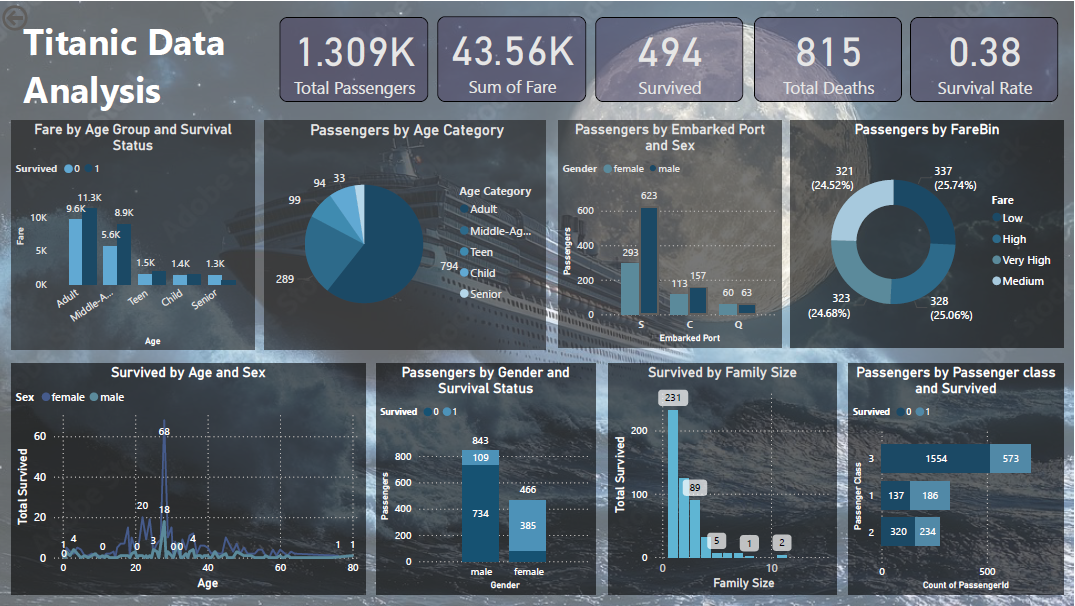

This screenshot's page, from the dashboard's own definition file:
{"tool":"powerbi","page":{"name":"Page 1","canvas":[1280,720],"ordinal":0},"visuals":[{"type":"cardVisual","title":"Total Passengers","fields":{"Data":["CountNonNull(titanic_cleaned.PassengerId)"]},"box":[329.6,14.5,188,111.3],"z":0},{"type":"textbox","box":[24.6,13,280.5,138.8],"z":1000},{"type":"cardVisual","fields":{"Data":["Sum(titanic_cleaned.Survived)"]},"box":[705.5,14.5,186.5,111.3],"z":2000},{"type":"cardVisual","fields":{"Data":["titanic_cleaned.Total Death"]},"box":[894.9,14.5,186.5,111.3],"z":3000},{"type":"cardVisual","fields":{"Data":["Sum(titanic_cleaned.Fare)"]},"box":[517.6,13,188,112.8],"z":4000},{"type":"cardVisual","fields":{"Data":["titanic_cleaned.Survival Rate"]},"box":[1081.4,14.5,186.5,111.3],"z":5000},{"type":"pieChart","title":"Passengers by Age Category","fields":{"Category":["titanic_cleaned.AgeBin"],"Y":["CountNonNull(titanic_cleaned.PassengerId)"]},"box":[316.6,141.7,335.4,273.3],"z":6000},{"type":"actionButton","box":[0,0,100,40],"z":7000},{"type":"columnChart","title":"Passengers by Gender and Survival Status","fields":{"Y":["CountNonNull(titanic_cleaned.PassengerId)"],"Category":["titanic_cleaned.Sex"],"Series":["titanic_cleaned.Survived"]},"box":[449.6,432.3,261.7,273.3],"z":9000},{"type":"lineChart","title":"Survived by Age and Sex","fields":{"Category":["titanic_cleaned.Age"],"Y":["Sum(titanic_cleaned.Survived)"],"Series":["titanic_cleaned.Sex"]},"box":[15.9,432.3,420.7,273.3],"z":10000},{"type":"lineStackedColumnComboChart","title":"Survived by Family Size","fields":{"Category":["titanic_cleaned.FamilySize"],"Y":["Sum(titanic_cleaned.Survived)"]},"box":[727.2,432.3,270.4,273.3],"z":11000},{"type":"barChart","title":"Passengers by Passenger class and Survived","fields":{"Category":["titanic_cleaned.Pclass"],"Y":["CountNonNull(titanic_cleaned.PassengerId)"],"Series":["titanic_cleaned.Survived"]},"box":[1013.5,432.3,254.5,273.3],"z":12000},{"type":"clusteredColumnChart","title":"Passengers by Embarked Port and Sex","fields":{"Category":["titanic_cleaned.Embarked"],"Series":["titanic_cleaned.Sex"],"Y":["CountNonNull(titanic_cleaned.PassengerId)"]},"box":[666.5,141.7,266,270.4],"z":13000},{"type":"clusteredColumnChart","title":"Fare by Age Group and Survival Status","fields":{"Category":["titanic_cleaned.AgeBin"],"Y":["Sum(titanic_cleaned.Fare)"],"Series":["titanic_cleaned.Survived"]},"box":[15.9,141.7,289.2,273.3],"z":14000},{"type":"donutChart","title":"Passengers by FareBin","fields":{"Category":["titanic_cleaned.FareBin"],"Y":["CountNonNull(titanic_cleaned.PassengerId)"]},"box":[944.1,141.7,323.9,270.4],"z":15000}]}

Visuals, with their boxes in screenshot pixels (x1, y1, x2, y2), scaled from the page's 1280x720 canvas onto the 1075x606 screenshot:
"Total Passengers" cardVisual: (left=277, top=12, right=435, bottom=106)
textbox: (left=21, top=11, right=256, bottom=128)
cardVisual - Sum(titanic_cleaned.Survived): (left=593, top=12, right=749, bottom=106)
cardVisual - titanic_cleaned.Total Death: (left=752, top=12, right=908, bottom=106)
cardVisual - Sum(titanic_cleaned.Fare): (left=435, top=11, right=593, bottom=106)
cardVisual - titanic_cleaned.Survival Rate: (left=908, top=12, right=1065, bottom=106)
"Passengers by Age Category" pieChart: (left=266, top=119, right=548, bottom=349)
actionButton: (left=0, top=0, right=84, bottom=34)
"Passengers by Gender and Survival Status" columnChart: (left=378, top=364, right=597, bottom=594)
"Survived by Age and Sex" lineChart: (left=13, top=364, right=367, bottom=594)
"Survived by Family Size" lineStackedColumnComboChart: (left=611, top=364, right=838, bottom=594)
"Passengers by Passenger class and Survived" barChart: (left=851, top=364, right=1065, bottom=594)
"Passengers by Embarked Port and Sex" clusteredColumnChart: (left=560, top=119, right=783, bottom=347)
"Fare by Age Group and Survival Status" clusteredColumnChart: (left=13, top=119, right=256, bottom=349)
"Passengers by FareBin" donutChart: (left=793, top=119, right=1065, bottom=347)
